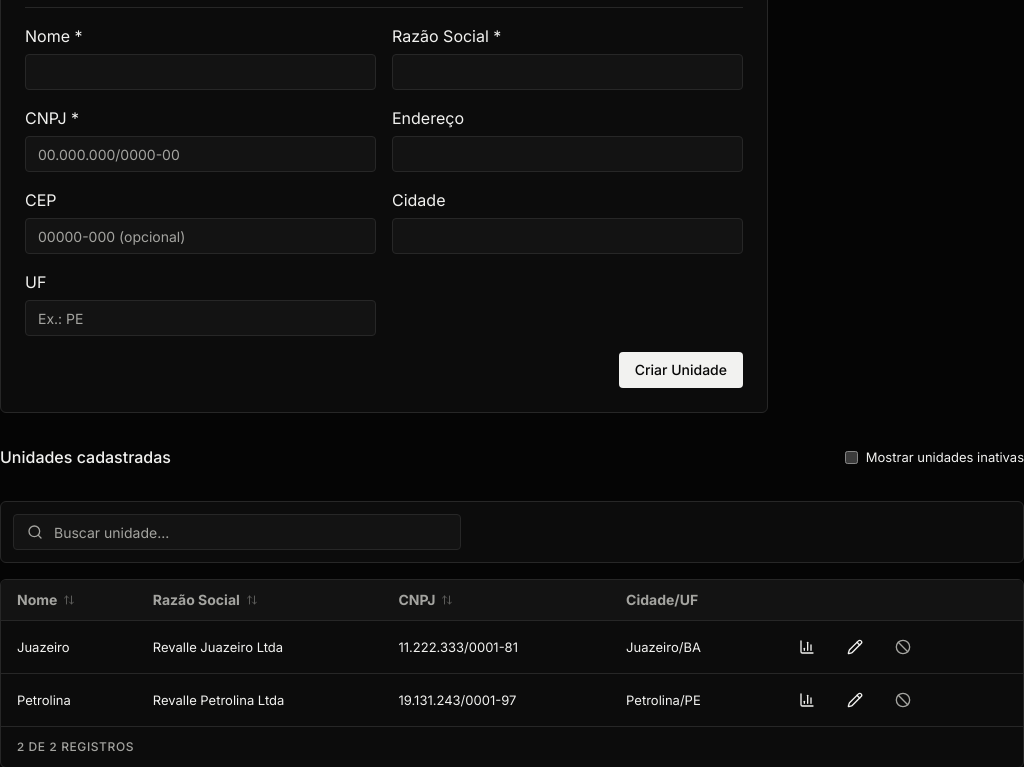
UnidadesPage — unidade sem CEP › lista e permite editar uma unidade sem CEP sem quebrar a tela
(page scrolled)
expect the text "Petrolina" is shown: met, box [17, 690, 71, 710]
What coordinates should you click on to do the following:
click the button named "Editar unidade Petrolina"
I would click on:
 (854, 700)
Its box is [834, 684, 874, 716].
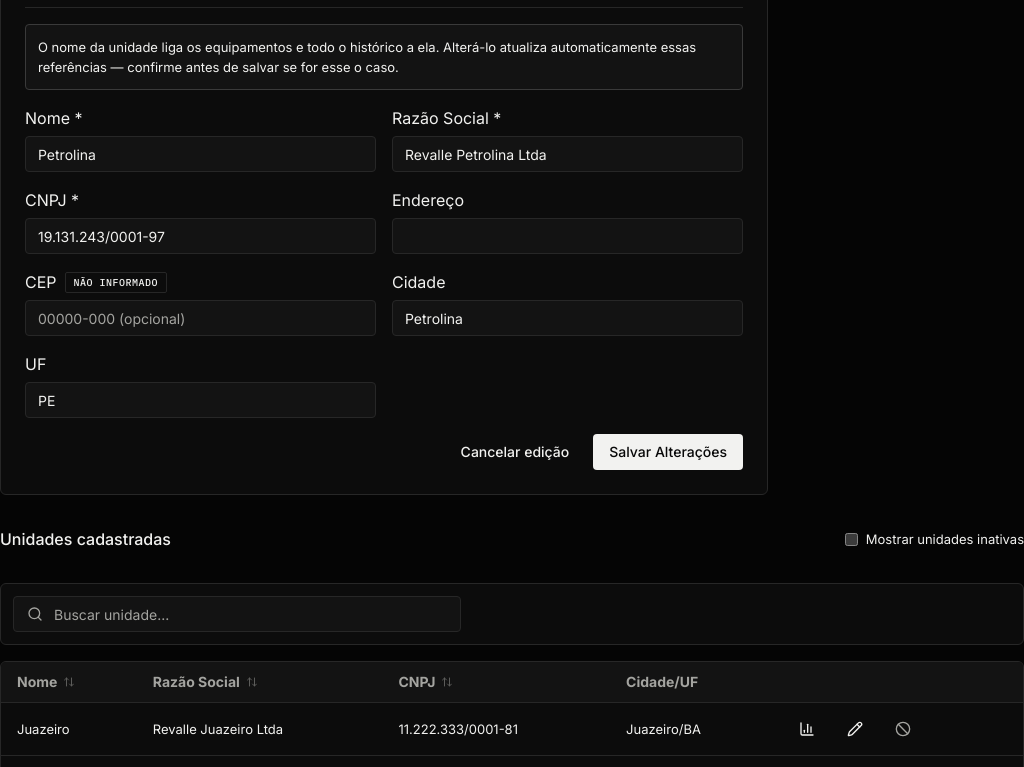
expect the field labelled "CEP" is empty: met, box [25, 300, 376, 336]
expect the text "Não informado" is shown: met, box [64, 272, 167, 292]
expect the field labelled "Cidade" holds "Petrolina": met, box [392, 300, 743, 336]
